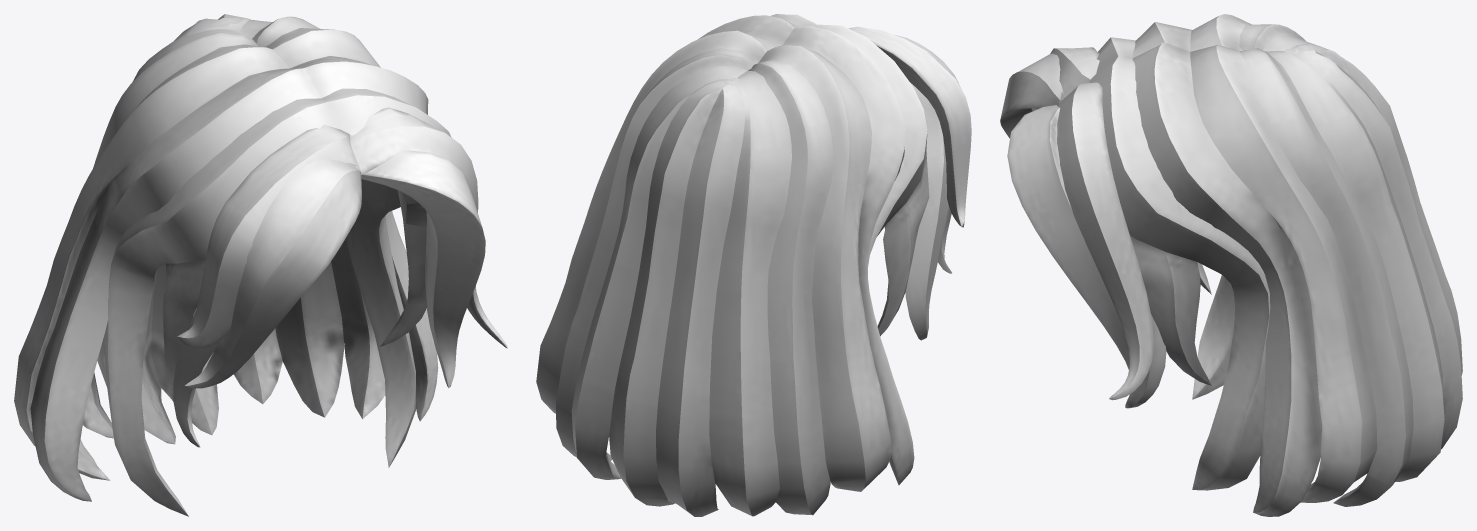
Rendered from hair_long.glb.
3 views of the same model, side by side, from view 1: azimuth 30°, elevation 25°; view 2: azimuth 150°, elevation 25°; view 3: azimuth 270°, elevation 25° (orthographic). The views are drawn at different scales.
Parts seen in each view (by area): view 1: Hair_Long; view 2: Hair_Long; view 3: Hair_Long.
Boxes of the visible parts, x1,y1,x2,y2 form: Hair_Long: (14, 14, 507, 516); Hair_Long: (536, 14, 971, 516); Hair_Long: (1000, 14, 1462, 516).
Size of the model in its own units: 0.2447 by 0.2764 by 0.2704.
1 material, 1 textured.
